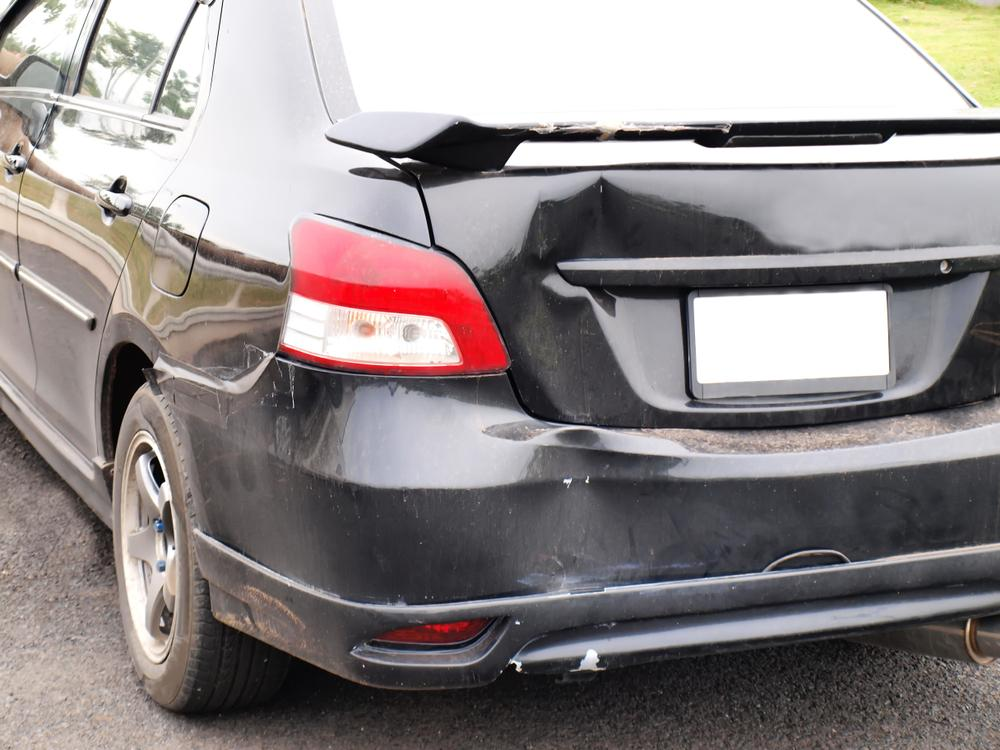dent: (482, 179, 774, 417), (511, 425, 698, 587)
